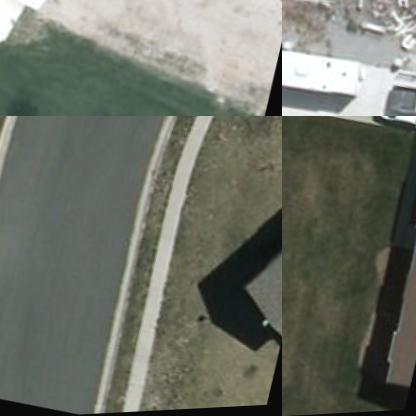camping car: (282, 36, 363, 109)
car: (373, 116, 415, 140)
pickup: (380, 67, 415, 115)
